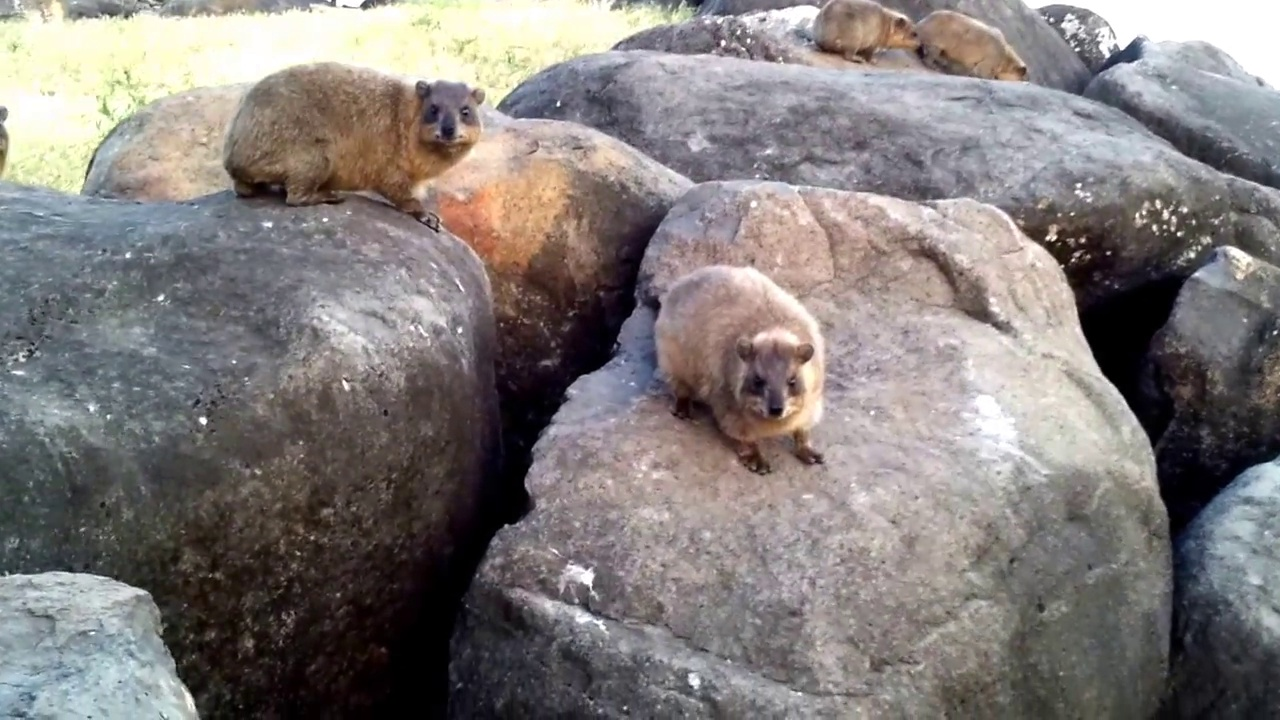Rock Hyrex: (224, 63, 486, 232), (657, 268, 832, 476), (906, 9, 1037, 89), (807, 1, 922, 65)
